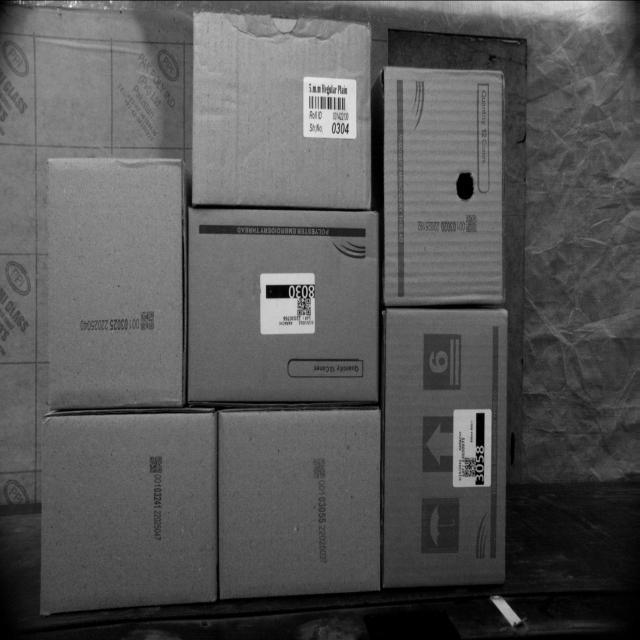box: (186, 204, 382, 404), (195, 11, 371, 208), (44, 162, 184, 404), (388, 307, 508, 586), (40, 418, 214, 608), (220, 408, 382, 596), (382, 64, 504, 304)
